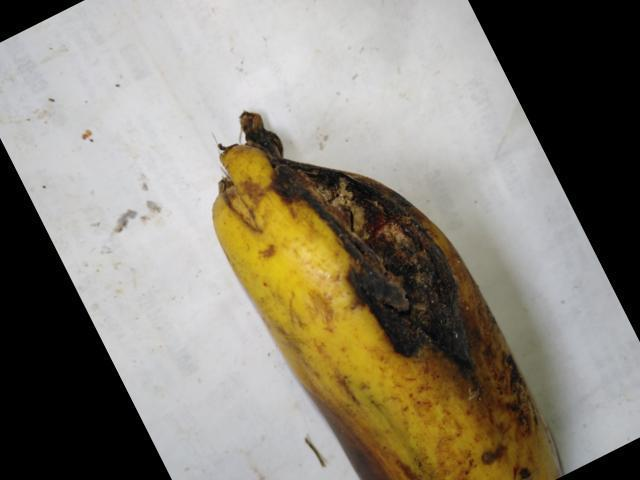ripe: (164, 149, 587, 479)
rotten: (219, 82, 500, 371)
